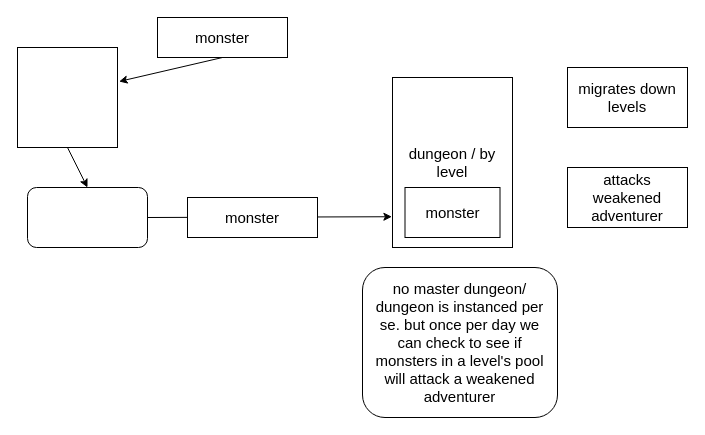
This 705x435 diagram has some shape labels left out. Here are the shapes that lost their labels. From the top down, the centre of each, then its label:
At pixel 67 97: "encounter".
At pixel 87 217: "adventurer flees".
